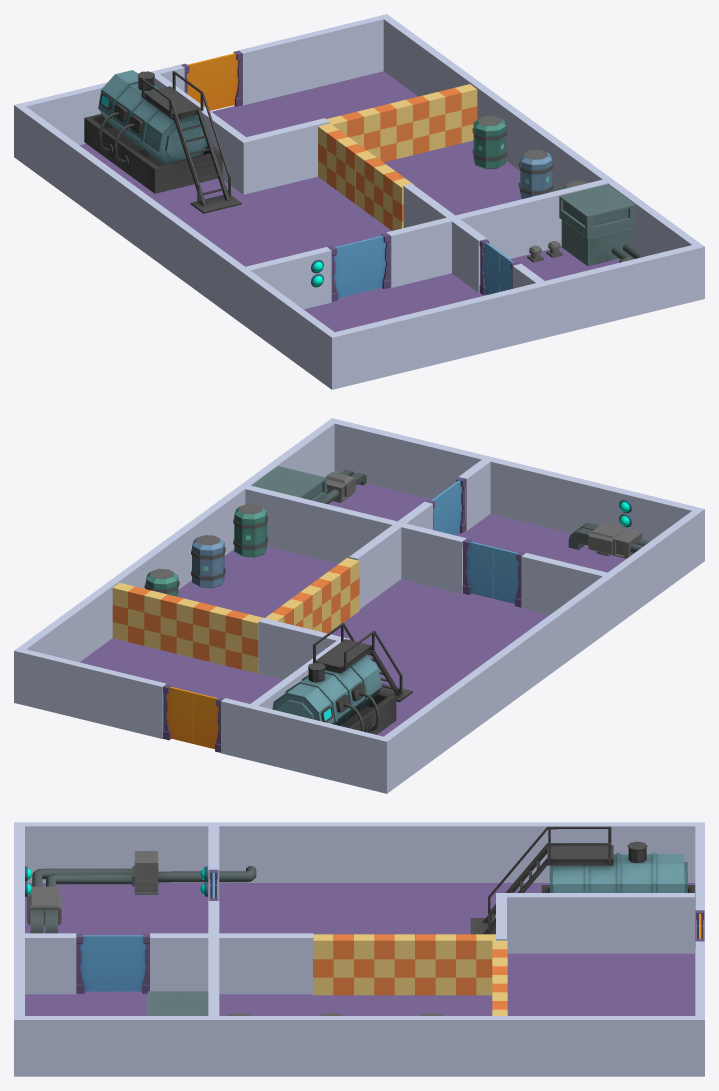
Rendered from maps_12.fbx.
3 renders of one model, top to bottom at view 1: azimuth 30°, elevation 25°; view 2: azimuth 150°, elevation 25°; view 3: azimuth 270°, elevation 25°, orthographic. The views are drawn at different scales.
Visible parts, largest first — view 1: polySurface144, polySurface195, polySurface196, tankwater_geo1, polySurface191, polySurface199, polySurface193, generatorStation_04_geo1, polySurface198, polySurface259, polySurface197, door_01_geo (×2) (+9 smaller); view 2: polySurface144, polySurface196, polySurface195, polySurface191, polySurface199, polySurface197, tankwater_geo1, polySurface193, polySurface259, polySurface198, generatorStation_04_geo1, polySurface263 (+12 smaller); view 3: polySurface144, polySurface191, polySurface196, polySurface261, tankwater_geo1, polySurface263, generatorStation_03_geo1, polySurface264, polySurface262, polySurface195, door_01_geo, door_02_geo (+16 smaller).
Part boxes in pixels (x1,y1,x2,y2): polySurface144: (80,71,633,331); polySurface195: (335,245,697,387); polySurface196: (14,103,339,389); tankwater_geo1: (84,70,241,213); polySurface191: (380,14,704,300); polySurface199: (386,179,607,287); polySurface193: (238,16,383,105); generatorStation_04_geo1: (559,184,645,266); polySurface198: (238,118,329,194); polySurface259: (245,247,331,309); polySurface197: (22,64,184,145); door_01_geo (×2): (358,235,500,294); polySurface144: (80,483,626,736); polySurface196: (379,507,704,793); polySurface195: (334,420,696,541); polySurface191: (14,418,338,704); polySurface199: (245,485,466,593); polySurface197: (221,698,383,791); tankwater_geo1: (272,623,412,734); polySurface193: (21,649,166,738); polySurface259: (521,553,607,615); polySurface198: (258,618,349,679); generatorStation_04_geo1: (251,466,366,504); polySurface263: (349,525,401,608); polySurface144: (25,883,695,1015); polySurface191: (14,1016,704,1076); polySurface196: (14,822,704,882); polySurface261: (507,893,694,953); tankwater_geo1: (470,826,695,947); polySurface263: (219,933,313,994); generatorStation_03_geo1: (27,851,256,933); polySurface264: (150,933,208,991); polySurface262: (24,933,76,994); polySurface195: (14,826,24,1016); door_01_geo: (112,935,145,991); door_02_geo: (80,935,114,991).
Size of the model in its own units: 66.51 by 15.78 by 98.23.
8 materials, 8 textured.
